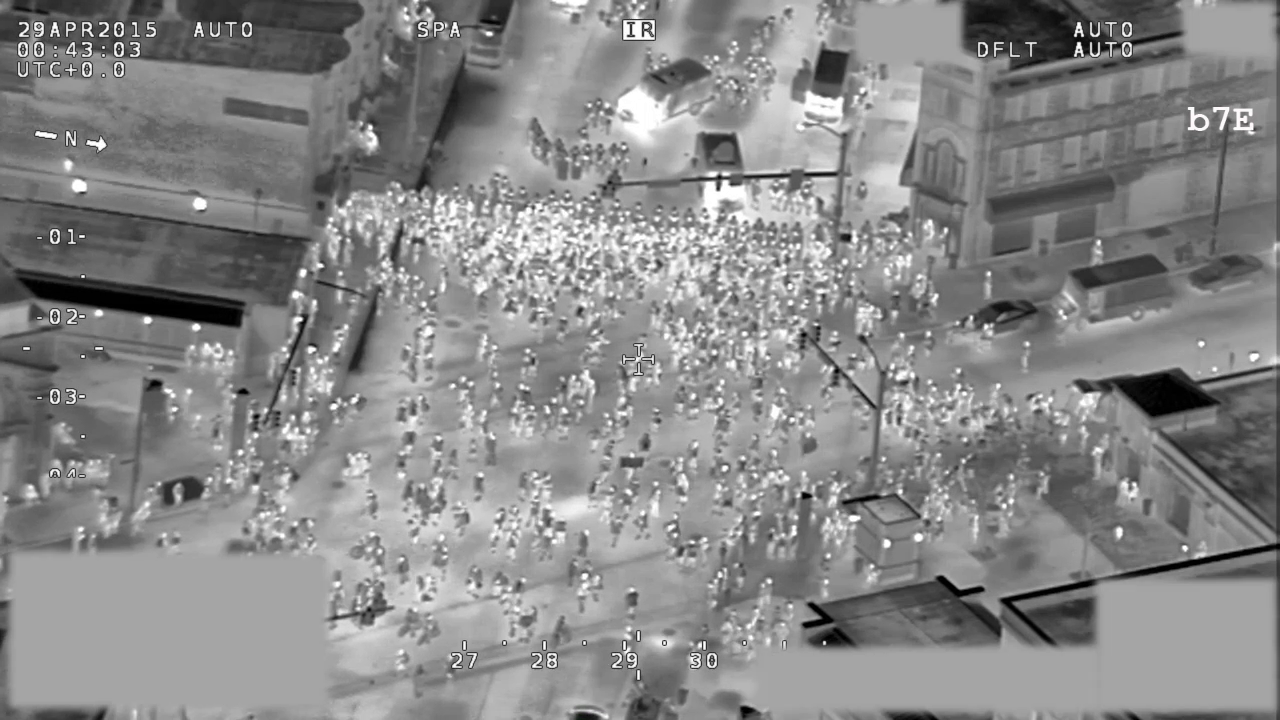vehicle: (606, 51, 717, 143), (1043, 252, 1172, 331), (686, 124, 756, 225), (797, 42, 859, 127), (956, 293, 1042, 346), (462, 1, 521, 74), (1186, 247, 1265, 297)
